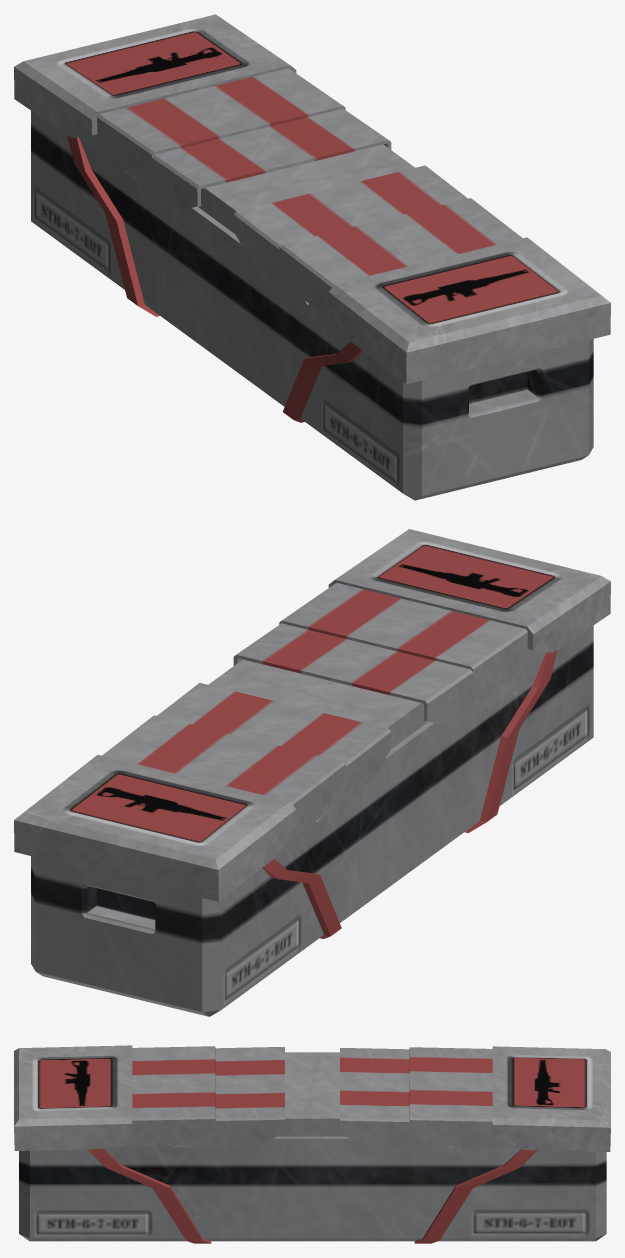
The model's file is Prop_Crate_Sniper.fbx.
3 renders of one model, top to bottom at view 1: azimuth 30°, elevation 25°; view 2: azimuth 150°, elevation 25°; view 3: azimuth 270°, elevation 25°, orthographic. The views are drawn at different scales.
Parts seen in each view (by area): view 1: SniperCrate1; view 2: SniperCrate1; view 3: SniperCrate1.
Boxes of the visible parts, left/top/right/bottom form: SniperCrate1: left=14, top=14, right=610, bottom=500; SniperCrate1: left=14, top=529, right=610, bottom=1016; SniperCrate1: left=14, top=1045, right=610, bottom=1243.
Size of the model in its own units: 1.01 by 0.8016 by 3.35.
